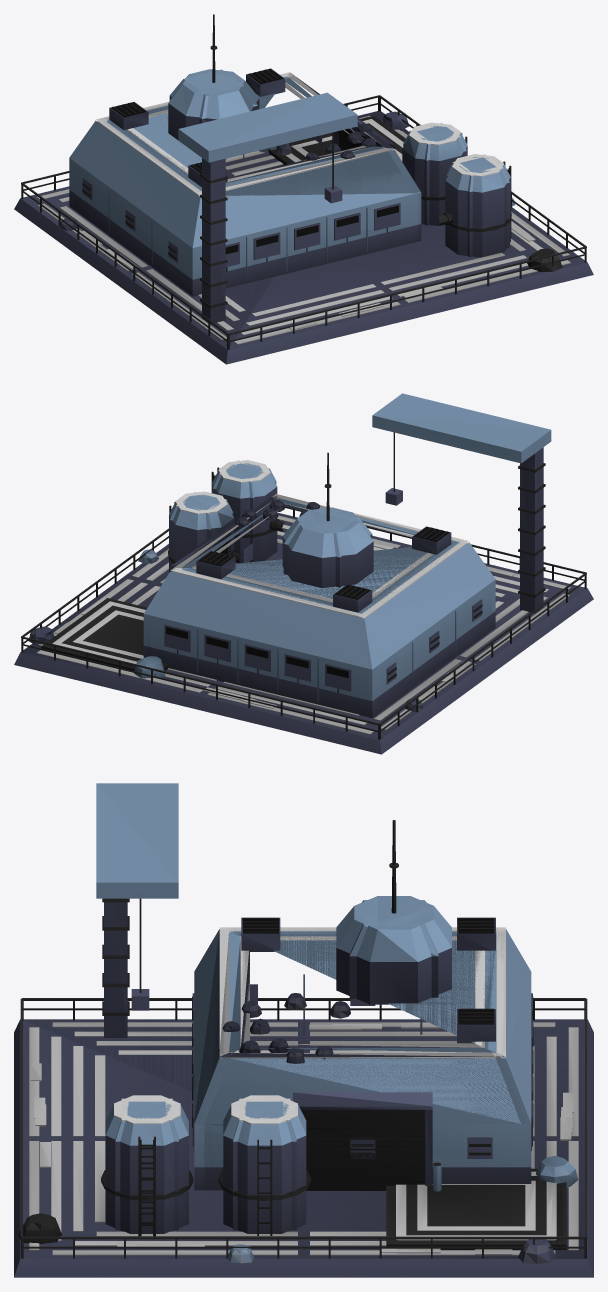
The model's file is veyran_construction_center_damaged.glb.
3 renders of one model, top to bottom at view 1: azimuth 30°, elevation 25°; view 2: azimuth 150°, elevation 25°; view 3: azimuth 270°, elevation 25°, orthographic. The views are drawn at different scales.
Parts seen in each view (by area): view 1: body (×3); view 2: body (×3); view 3: body (×3).
Part boxes in pixels (<box>): body (×3): <box>14,14,593,364</box>; body (×3): <box>14,393,593,754</box>; body (×3): <box>14,783,593,1277</box>.
Size of the model in its own units: 14.95 by 8.35 by 14.8.
